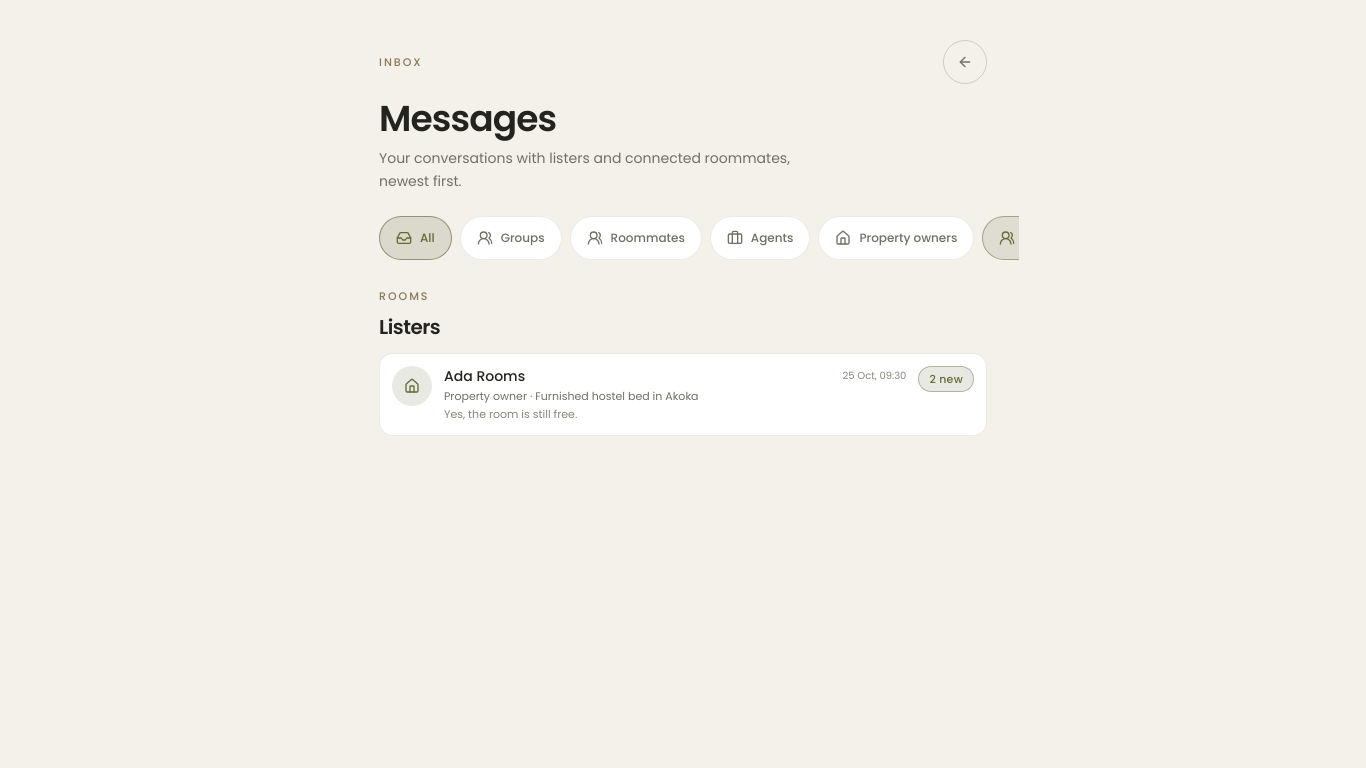
Test: Messages inbox › lists room conversations with the unread count and opens the thread
Expected: the text "Ada Rooms" is shown, [444,366,525,386]
Expected: the text "Property owner · Furnished hostel bed in Akoka" is shown, [444,388,698,404]
Click the button "Ada Rooms": [683, 394] box [379,353,987,436]
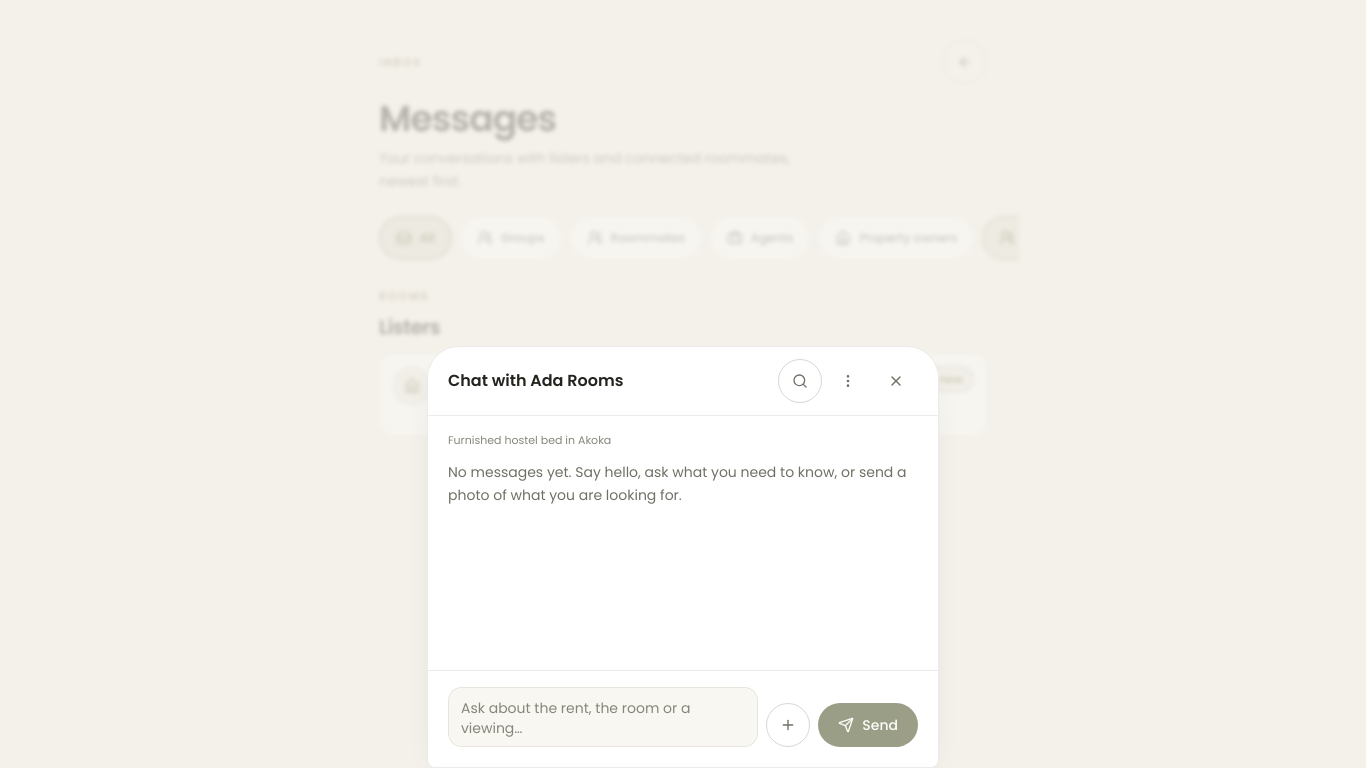
Expected: the text box named "Message" is shown, [448,687,758,747]
